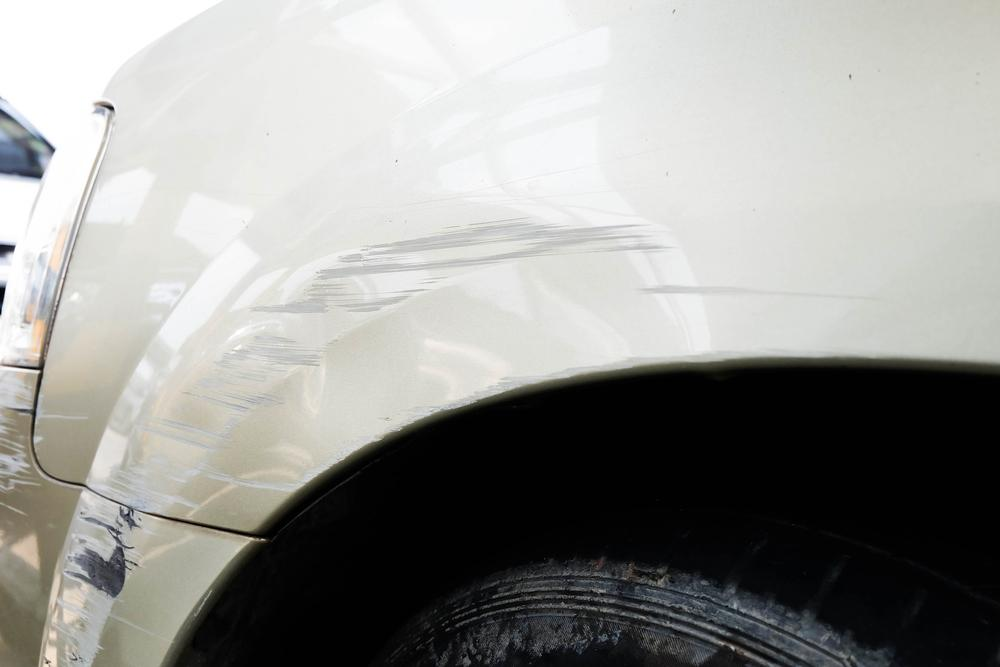scratch: (87, 212, 883, 524), (49, 494, 156, 667), (0, 373, 38, 514)
